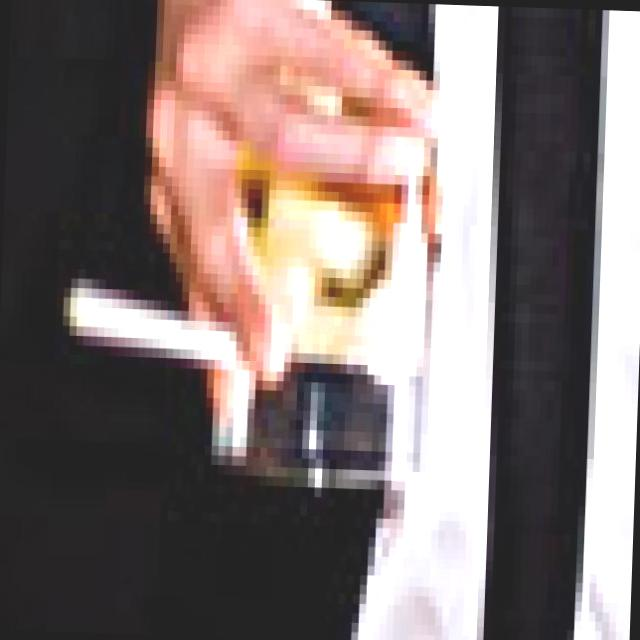smoke: (46, 286, 258, 379)
